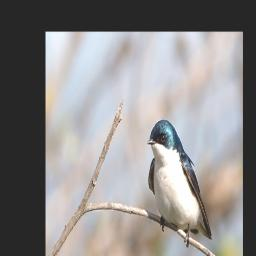Swallow: (148, 118, 213, 250)
